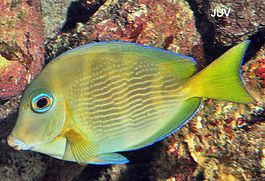Acanthurus_coeruleus: (7, 33, 261, 165)
